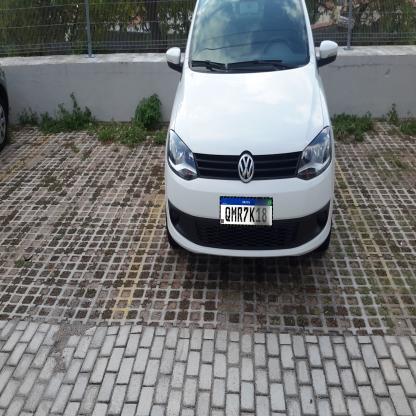PlacaM: (220, 196, 273, 227)
